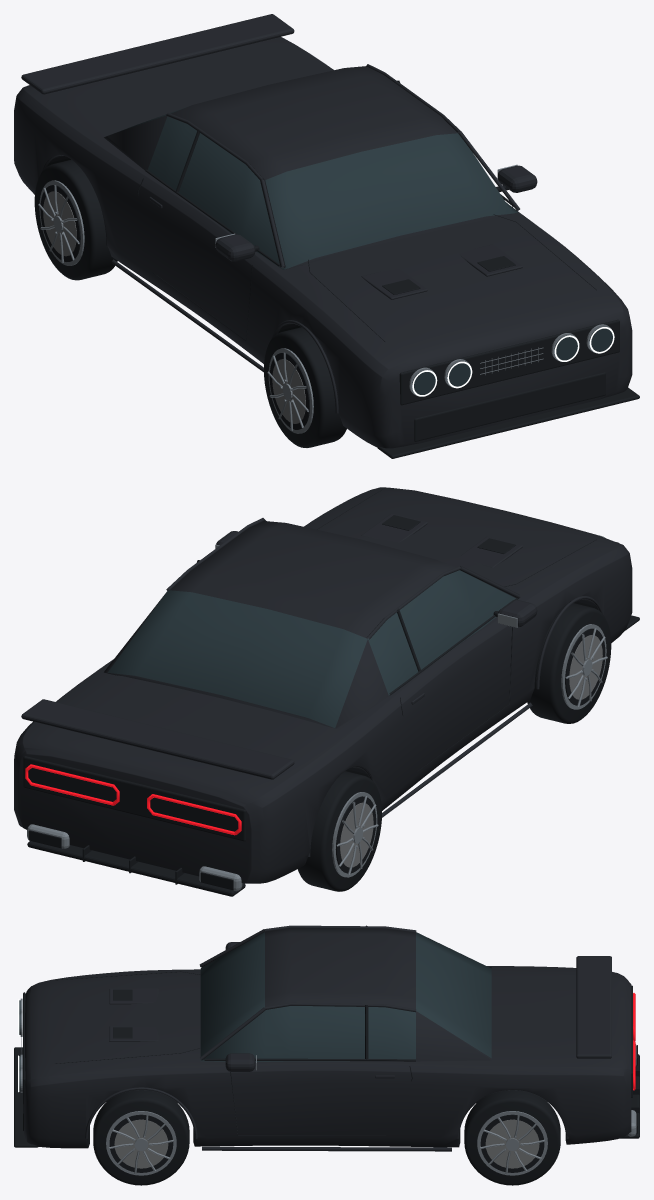
Rendered from car-4.glb.
The picture shows the model from 3 angles, top to bottom: view 1: azimuth 30°, elevation 25°; view 2: azimuth 150°, elevation 25°; view 3: azimuth 270°, elevation 25°; orthographic projection. The views are drawn at different scales.
Visible parts, largest first — view 1: Continuous sculpted body, Integrated roof and glazing, Satin trim and tyres, Obsidian clearcoat, Dark machined alloy, Brake disc, Dark automotive glass, Headlight halo; view 2: Continuous sculpted body, Integrated roof and glazing, Satin trim and tyres, Obsidian clearcoat, Dark machined alloy, Brake disc, Tail LED; view 3: Continuous sculpted body, Integrated roof and glazing, Satin trim and tyres, Obsidian clearcoat, Dark machined alloy, Brake disc.
Boxes of the visible parts, left/top/right/bottom form: Continuous sculpted body: left=14, top=37, right=632, bottom=448; Integrated roof and glazing: left=104, top=66, right=518, bottom=269; Satin trim and tyres: left=34, top=80, right=639, bottom=458; Obsidian clearcoat: left=21, top=14, right=537, bottom=413; Dark machined alloy: left=38, top=164, right=611, bottom=433; Brake disc: left=43, top=191, right=305, bottom=423; Dark automotive glass: left=412, top=328, right=612, bottom=394; Headlight halo: left=412, top=327, right=614, bottom=396; Continuous sculpted body: left=14, top=487, right=632, bottom=883; Integrated roof and glazing: left=104, top=521, right=518, bottom=729; Satin trim and tyres: left=23, top=488, right=639, bottom=896; Obsidian clearcoat: left=21, top=513, right=603, bottom=856; Dark machined alloy: left=27, top=535, right=607, bottom=891; Brake disc: left=340, top=635, right=602, bottom=867; Tail LED: left=25, top=764, right=241, bottom=835; Continuous sculpted body: left=24, top=966, right=631, bottom=1148; Integrated roof and glazing: left=200, top=927, right=491, bottom=1061; Satin trim and tyres: left=14, top=925, right=639, bottom=1185; Obsidian clearcoat: left=85, top=925, right=611, bottom=1151; Dark machined alloy: left=20, top=998, right=636, bottom=1175; Brake disc: left=114, top=1119, right=539, bottom=1168.
Size of the model in its own units: 0.3309 by 0.2124 by 0.7185.
